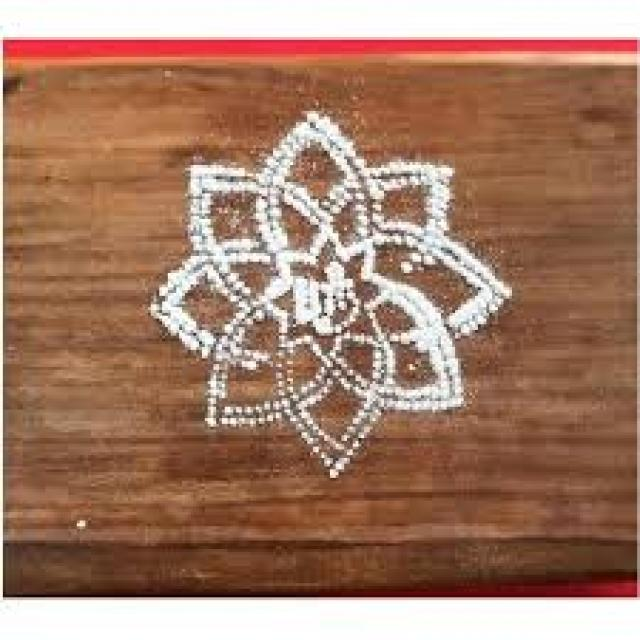rangoli: (141, 98, 510, 474)
